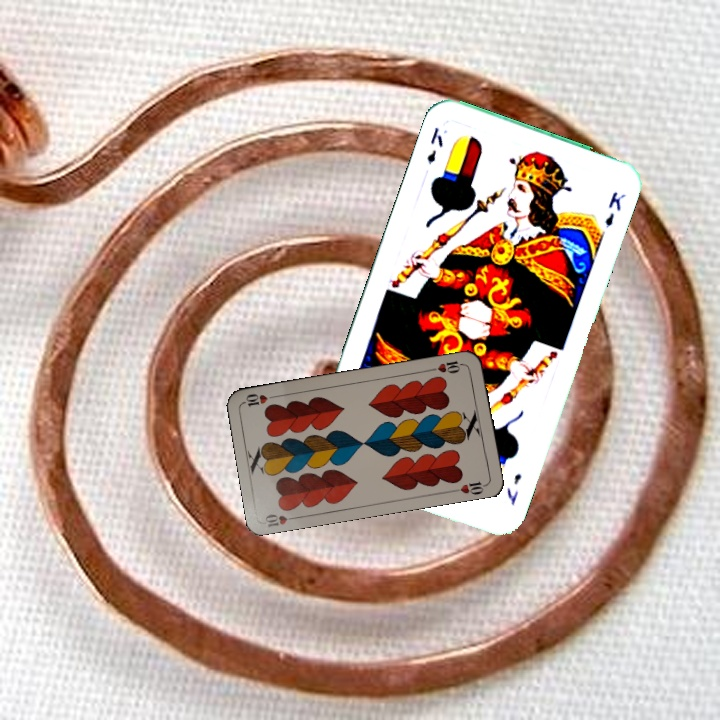EK: (422, 124, 446, 166), (503, 469, 525, 508)
H10: (427, 356, 467, 376), (261, 510, 302, 529)
